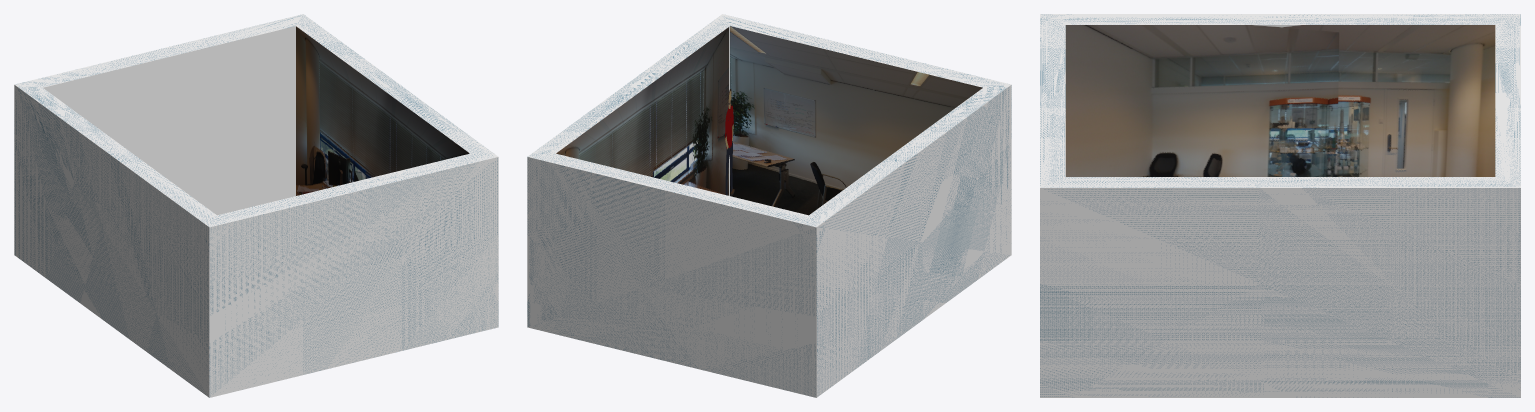
3 renders of one model, left to right at view 1: azimuth 30°, elevation 25°; view 2: azimuth 150°, elevation 25°; view 3: azimuth 270°, elevation 25°, orthographic. The views are drawn at different scales.
Parts seen in each view (by area): view 1: SketchUp, image_0, image_3; view 2: SketchUp, image_2, image_3; view 3: SketchUp, image_1.
Boxes of the visible parts, x1,y1,x2,y2 form: SketchUp: (14,14,498,397); image_0: (43,26,295,215); image_3: (296,26,469,195); SketchUp: (527,14,1011,397); image_2: (730,26,982,215); image_3: (556,26,729,195); SketchUp: (1040,14,1520,397); image_1: (1065,25,1495,176).
Bounding box in the file's own units: 189 × 220 × 106.
Materials: 13 (3 with a texture image).
